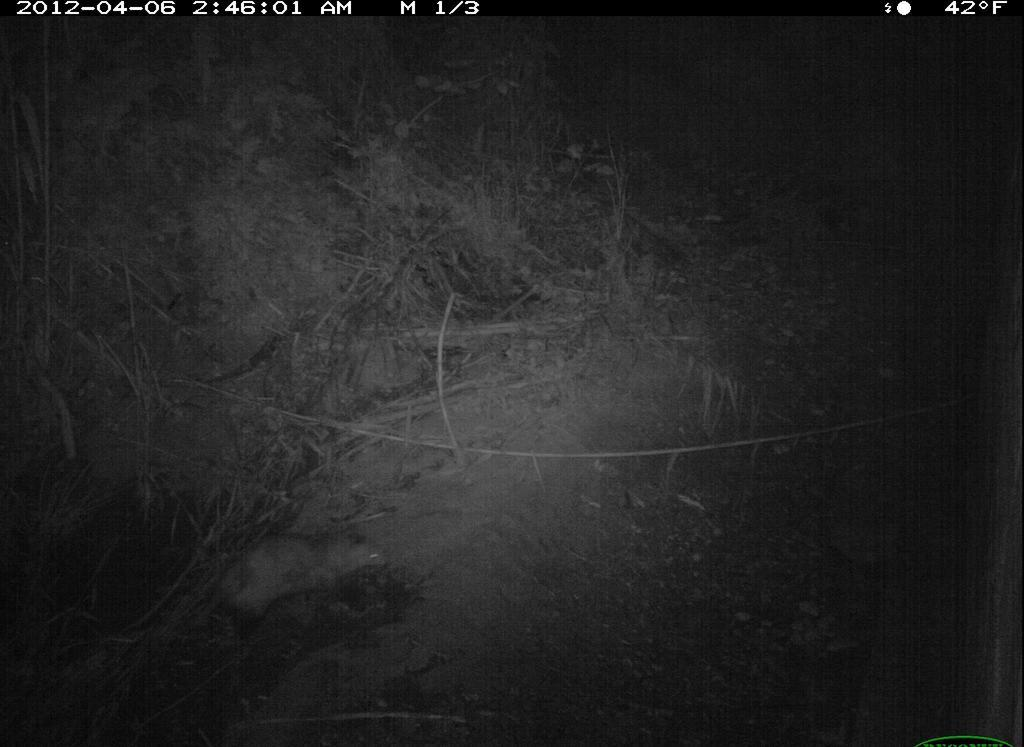opossum: (172, 525, 399, 635)
